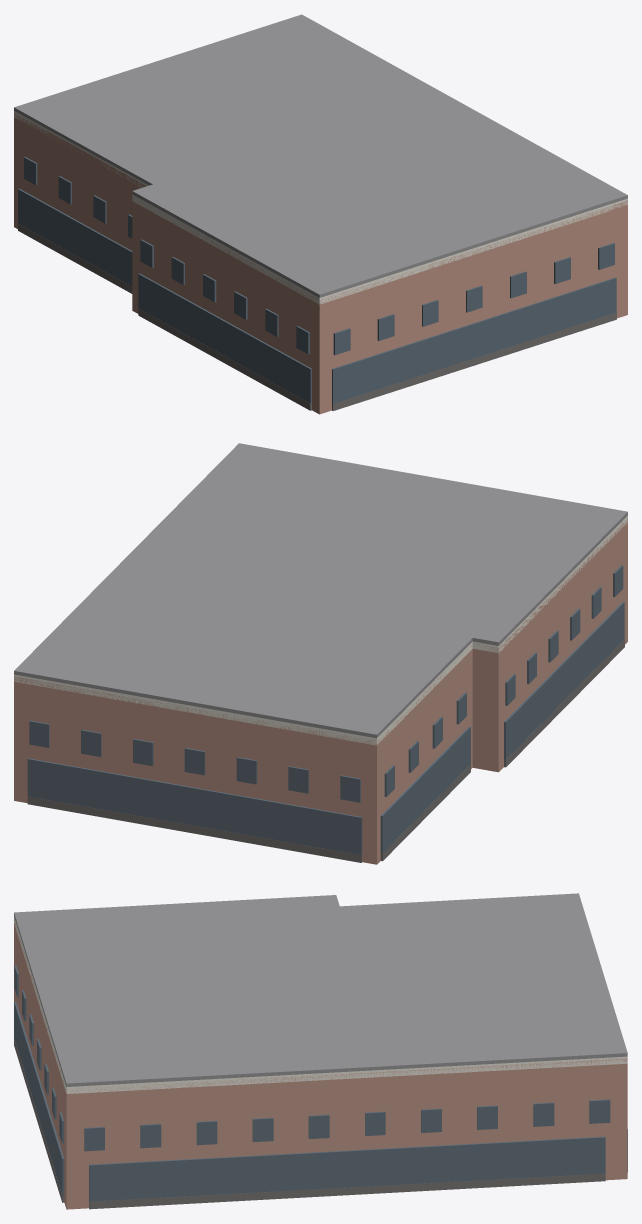
File: s13_gis_247962_820648.glb
3 renders of one model, top to bottom at view 1: azimuth 30°, elevation 25°; view 2: azimuth 150°, elevation 25°; view 3: azimuth 270°, elevation 25°, orthographic. The views are drawn at different scales.
Parts seen in each view (by area): view 1: roofcap, mass, store_5, store_4, cornice, store_2, bulk_5, bulk_4, bulk_2; view 2: roofcap, mass, store_1, store_4, cornice, store_2, bulk_1, bulk_4, bulk_2; view 3: roofcap, mass, store_0, cornice, bulk_0, store_5, win_0_0_1, win_0_0_2, win_0_0_3, win_0_0_4, win_0_0_8, win_0_0_9 (+5 smaller).
Part boxes in pixels (bbox=[...]): roofcap: bbox=[14, 14, 627, 297]; mass: bbox=[14, 113, 627, 414]; store_5: bbox=[332, 277, 616, 405]; store_4: bbox=[138, 273, 311, 405]; cornice: bbox=[14, 111, 627, 304]; store_2: bbox=[18, 188, 132, 286]; bulk_5: bbox=[332, 312, 616, 410]; bulk_4: bbox=[138, 308, 311, 410]; bulk_2: bbox=[18, 223, 132, 293]; roofcap: bbox=[14, 443, 627, 738]; mass: bbox=[14, 518, 627, 864]; store_1: bbox=[27, 758, 362, 855]; store_4: bbox=[504, 602, 624, 764]; cornice: bbox=[14, 515, 627, 745]; store_2: bbox=[380, 726, 470, 853]; bulk_1: bbox=[27, 796, 362, 862]; bulk_4: bbox=[504, 639, 624, 767]; bulk_2: bbox=[380, 764, 470, 861]; roofcap: bbox=[14, 893, 627, 1086]; mass: bbox=[14, 923, 627, 1209]; store_0: bbox=[89, 1136, 605, 1201]; cornice: bbox=[14, 916, 627, 1093]; bulk_0: bbox=[89, 1173, 605, 1209]; store_5: bbox=[14, 1001, 64, 1199]; win_0_0_1: bbox=[140, 1123, 161, 1148]; win_0_0_2: bbox=[196, 1120, 217, 1145]; win_0_0_3: bbox=[252, 1117, 273, 1142]; win_0_0_4: bbox=[308, 1114, 329, 1139]; win_0_0_8: bbox=[533, 1102, 554, 1126]; win_0_0_9: bbox=[589, 1099, 610, 1123].
Bounding box in the file's own units: 27.09 × 8.35 × 36.88.
